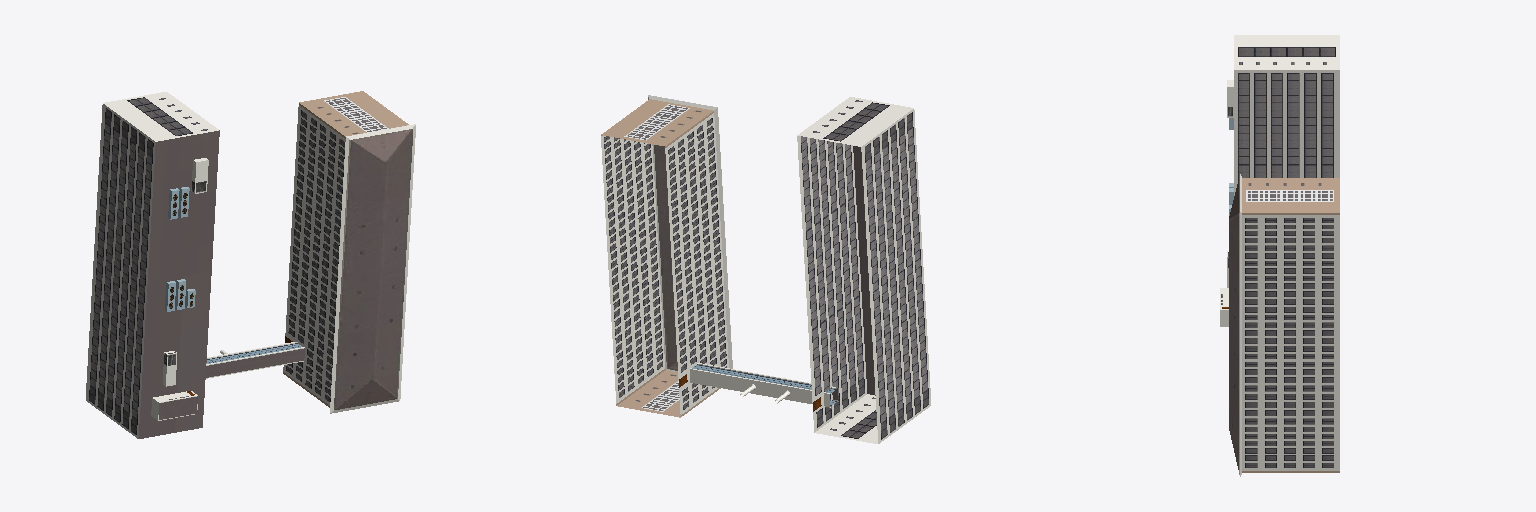
The picture shows the model from 3 angles: view 1: azimuth 30°, elevation 25°; view 2: azimuth 150°, elevation 25°; view 3: azimuth 270°, elevation 25°; orthographic projection.
Visible parts, largest first — view 1: Standard; view 2: Standard; view 3: Standard.
Boxes of the visible parts, x1=… form: Standard: x1=86, y1=91, x2=415, y2=438; Standard: x1=601, y1=95, x2=930, y2=443; Standard: x1=1220, y1=35, x2=1339, y2=476.
Bounding box in the file's own units: 67.92 × 74.43 × 25.19.
Materials: 1 (1 with a texture image).